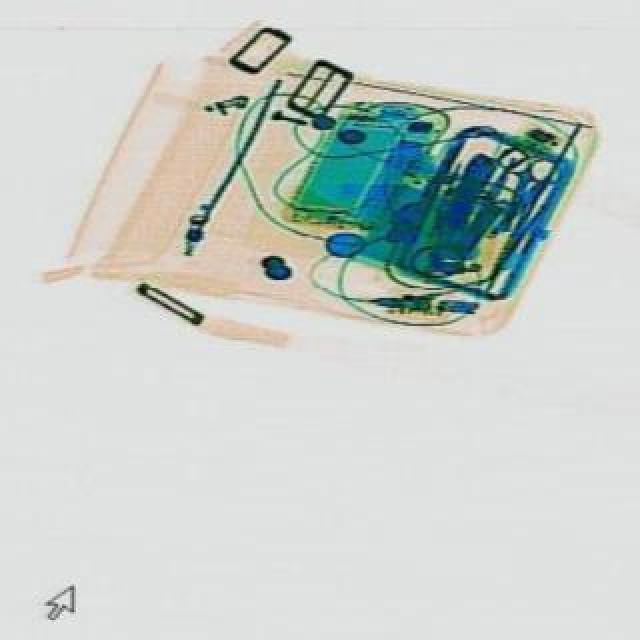pliers: (478, 142, 572, 238)
